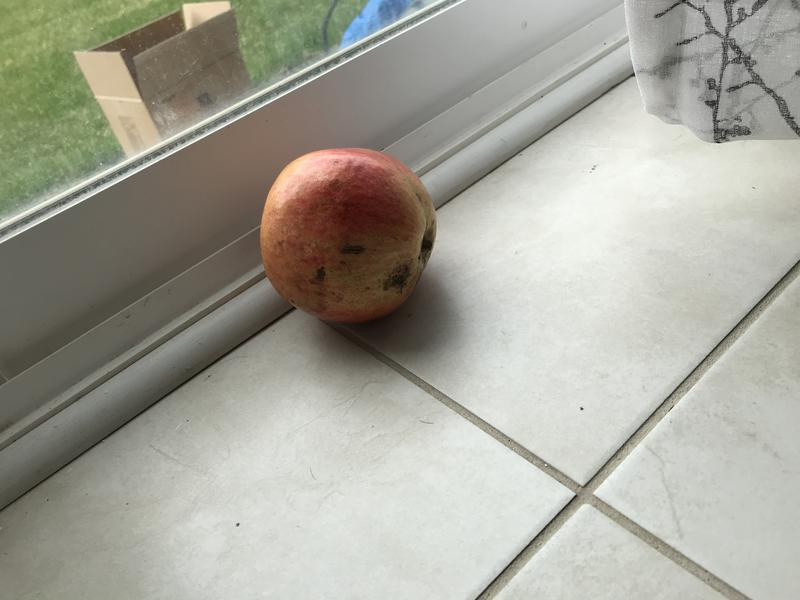pomegranate: (248, 141, 448, 337)
